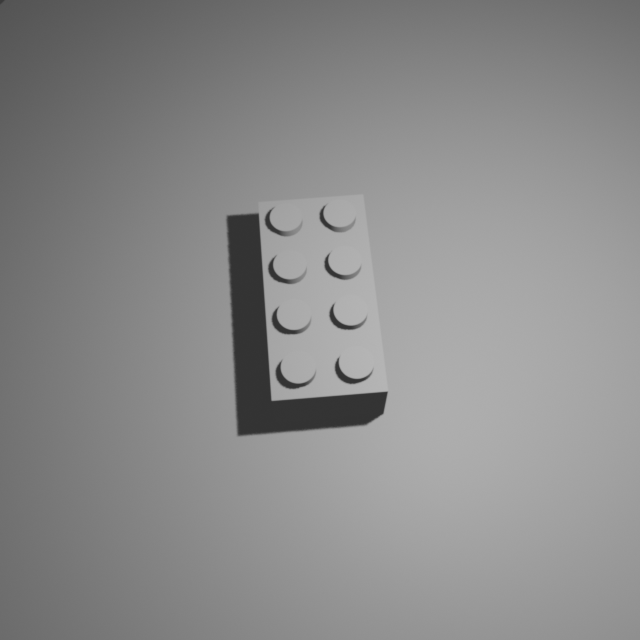lego_2x4: (258, 188, 389, 423)
